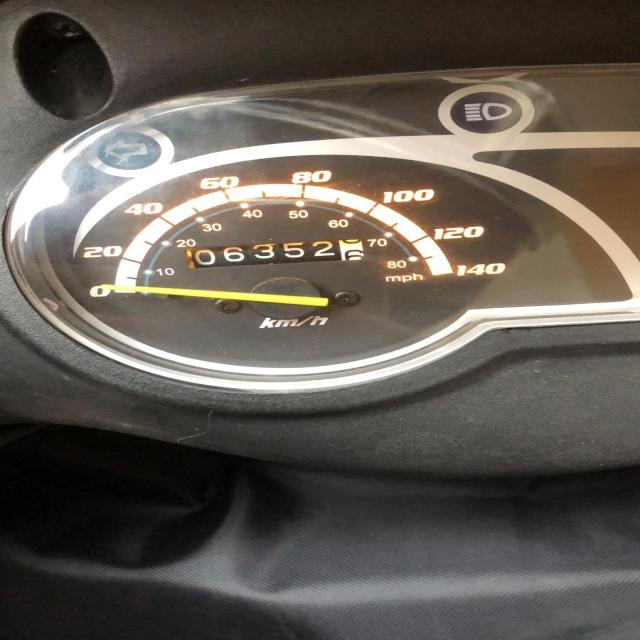odometer: (175, 236, 372, 271)
